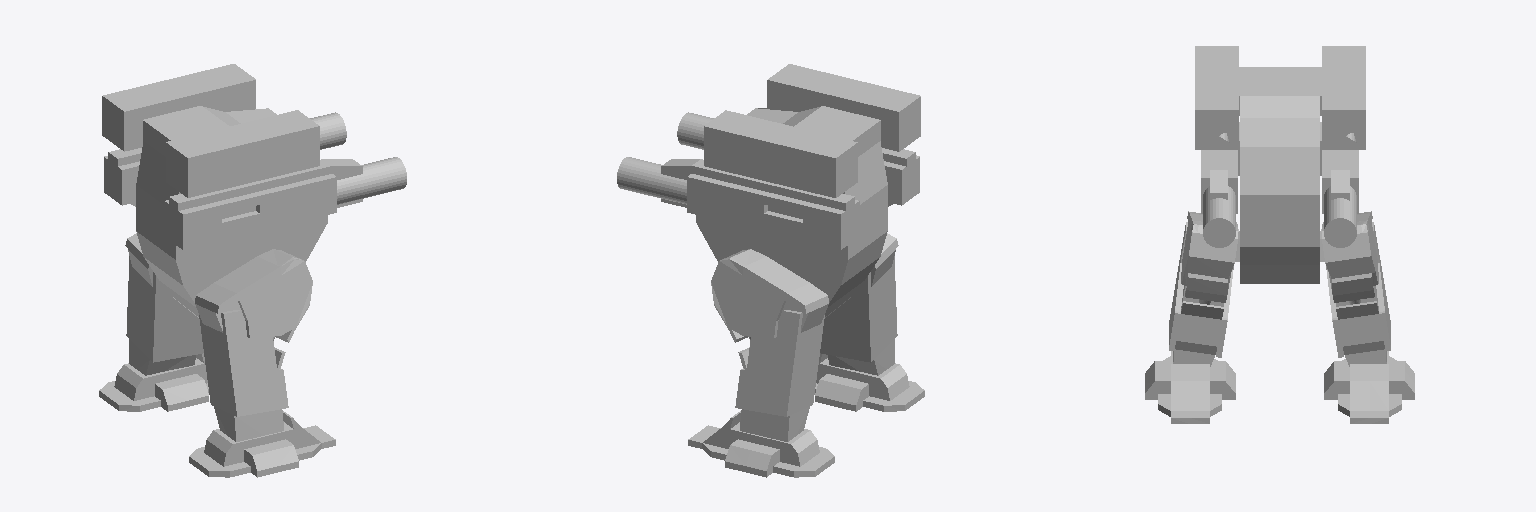
Rendered from Prototype.obj.
3 views of the same model, side by side, from view 1: azimuth 30°, elevation 25°; view 2: azimuth 150°, elevation 25°; view 3: azimuth 270°, elevation 25° (orthographic).
Parts seen in each view (by area): view 1: Правая_нога_Куб.004, Правая_пушка_Цилиндр.002, Корпус_Куб, Правая_ракетница_Куб.009, леваянога_Куб.002, левая_ракетница_Куб.012, Правая_пятка_Куб.001, Левая_пятка_Куб.003, Левая_пушка_Цилиндр.007; view 2: леваянога_Куб.002, Левая_пушка_Цилиндр.007, Корпус_Куб, левая_ракетница_Куб.012, Правая_нога_Куб.004, Правая_ракетница_Куб.009, Левая_пятка_Куб.003, Правая_пятка_Куб.001, Правая_пушка_Цилиндр.002; view 3: Корпус_Куб, леваянога_Куб.002, Правая_нога_Куб.004, Правая_пятка_Куб.001, Левая_пятка_Куб.003, Правая_ракетница_Куб.009, левая_ракетница_Куб.012, Левая_пушка_Цилиндр.007, Правая_пушка_Цилиндр.002.
Boxes of the visible parts, x1=… form: Правая_нога_Куб.004: x1=195, y1=249, x2=312, y2=441; Правая_пушка_Цилиндр.002: x1=164, y1=157, x2=406, y2=266; Корпус_Куб: x1=136, y1=106, x2=327, y2=306; Правая_ракетница_Куб.009: x1=166, y1=110, x2=319, y2=197; леваянога_Куб.002: x1=125, y1=233, x2=203, y2=375; левая_ракетница_Куб.012: x1=102, y1=64, x2=255, y2=151; Правая_пятка_Куб.001: x1=189, y1=411, x2=335, y2=477; Левая_пятка_Куб.003: x1=99, y1=353, x2=208, y2=411; Левая_пушка_Цилиндр.007: x1=104, y1=112, x2=346, y2=206; леваянога_Куб.002: x1=711, y1=249, x2=828, y2=441; Левая_пушка_Цилиндр.007: x1=617, y1=157, x2=859, y2=266; Корпус_Куб: x1=696, y1=106, x2=887, y2=306; левая_ракетница_Куб.012: x1=704, y1=110, x2=857, y2=197; Правая_нога_Куб.004: x1=820, y1=233, x2=898, y2=375; Правая_ракетница_Куб.009: x1=767, y1=64, x2=920, y2=151; Левая_пятка_Куб.003: x1=688, y1=411, x2=834, y2=477; Правая_пятка_Куб.001: x1=815, y1=353, x2=924, y2=411; Правая_пушка_Цилиндр.002: x1=677, y1=112, x2=919, y2=206; Корпус_Куб: x1=1239, y1=67, x2=1321, y2=283; леваянога_Куб.002: x1=1320, y1=211, x2=1390, y2=366; Правая_нога_Куб.004: x1=1169, y1=211, x2=1239, y2=366; Правая_пятка_Куб.001: x1=1145, y1=351, x2=1235, y2=423; Левая_пятка_Куб.003: x1=1324, y1=351, x2=1414, y2=423; Правая_ракетница_Куб.009: x1=1195, y1=46, x2=1238, y2=149; левая_ракетница_Куб.012: x1=1322, y1=46, x2=1365, y2=149; Левая_пушка_Цилиндр.007: x1=1320, y1=122, x2=1358, y2=247; Правая_пушка_Цилиндр.002: x1=1201, y1=122, x2=1239, y2=247.
Bounding box in the file's own units: 2.02 × 2.67 × 2.09.